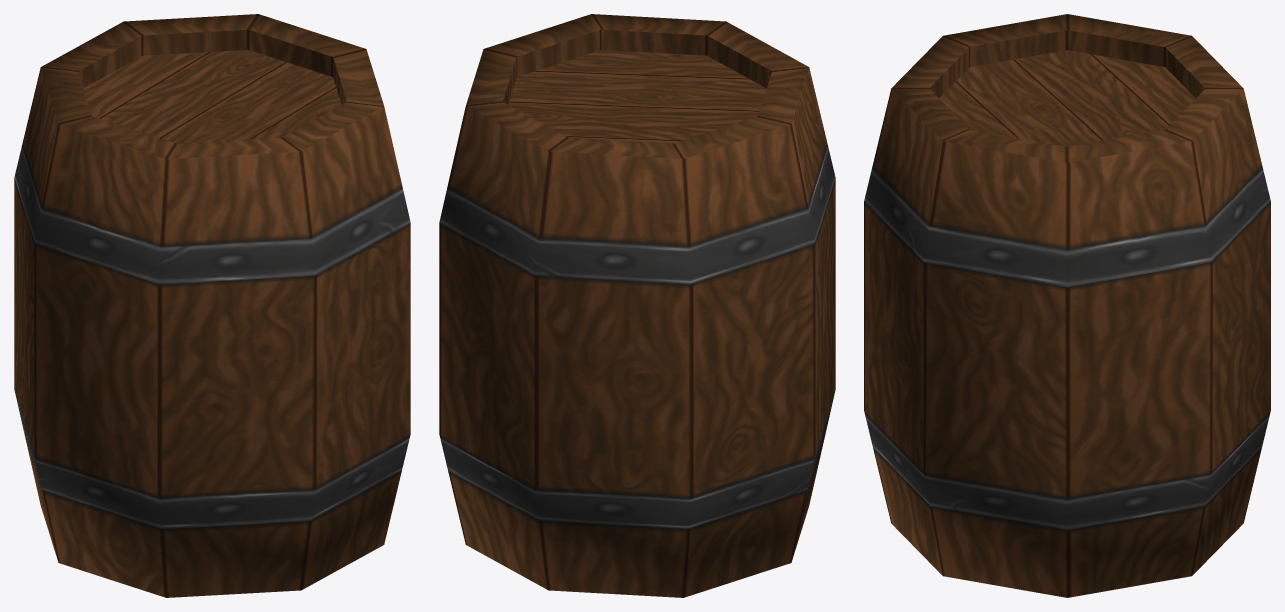
Rendered from barrel_01.fbx.
3 views of the same model, side by side, from view 1: azimuth 30°, elevation 25°; view 2: azimuth 150°, elevation 25°; view 3: azimuth 270°, elevation 25° (orthographic).
Visible parts, largest first — view 1: barrel_01; view 2: barrel_01; view 3: barrel_01.
Boxes of the visible parts, bbox=[...] form: barrel_01: bbox=[14, 14, 410, 597]; barrel_01: bbox=[439, 14, 835, 597]; barrel_01: bbox=[864, 14, 1270, 597].
Size of the model in its own units: 0.416 by 0.4908 by 0.416.
